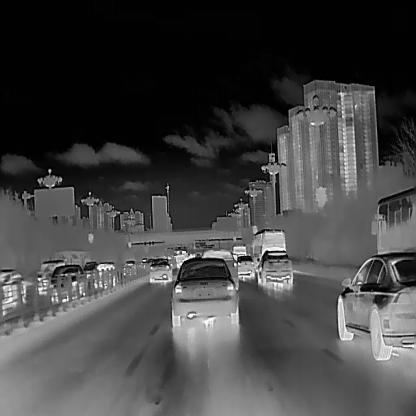car: (336, 249, 416, 360), (170, 255, 239, 327), (370, 184, 415, 256), (200, 247, 238, 290), (45, 264, 86, 302), (251, 228, 285, 269), (256, 248, 293, 285), (0, 265, 25, 316), (36, 259, 66, 296), (94, 260, 118, 288), (149, 256, 172, 283), (233, 253, 255, 278), (82, 260, 99, 278), (174, 250, 189, 267), (123, 259, 136, 276), (232, 244, 246, 259)
